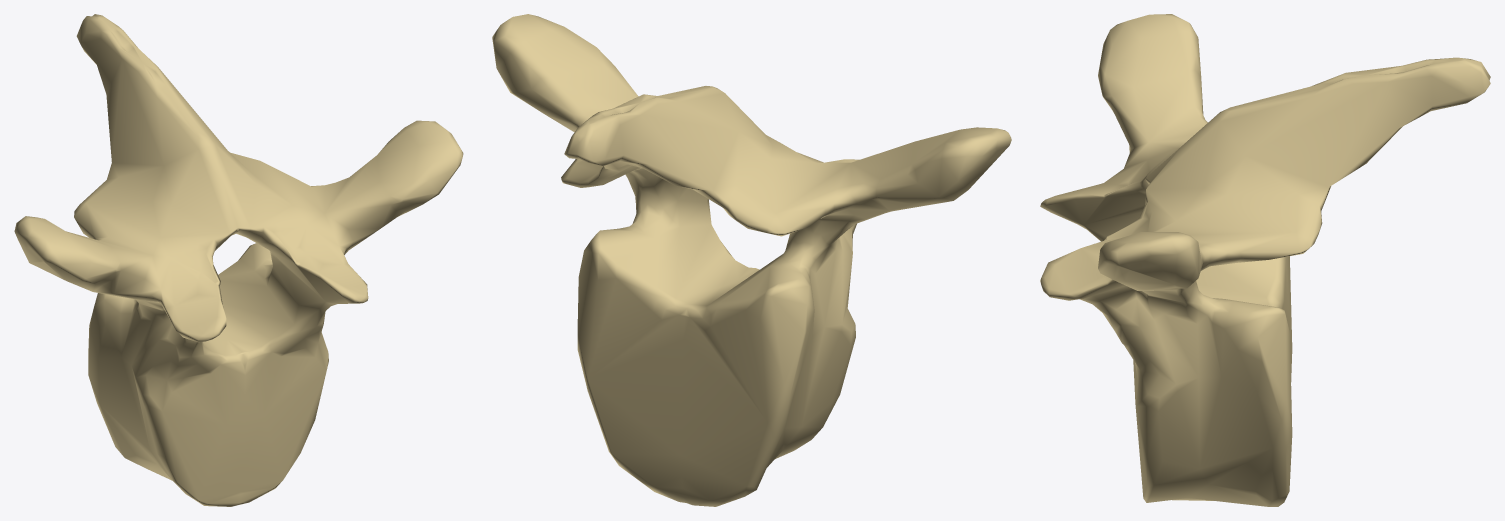
3 views of the same model, side by side, from view 1: azimuth 30°, elevation 25°; view 2: azimuth 150°, elevation 25°; view 3: azimuth 270°, elevation 25° (orthographic). The views are drawn at different scales.
Visible parts, largest first — view 1: 第六胸椎; view 2: 第六胸椎; view 3: 第六胸椎.
Part boxes in pixels (left/top/right/bottom): 第六胸椎: left=14, top=14, right=463, bottom=506; 第六胸椎: left=492, top=14, right=1011, bottom=506; 第六胸椎: left=1040, top=14, right=1490, bottom=506.
Size of the model in its own units: 0.1119 by 0.0984 by 0.0915.
